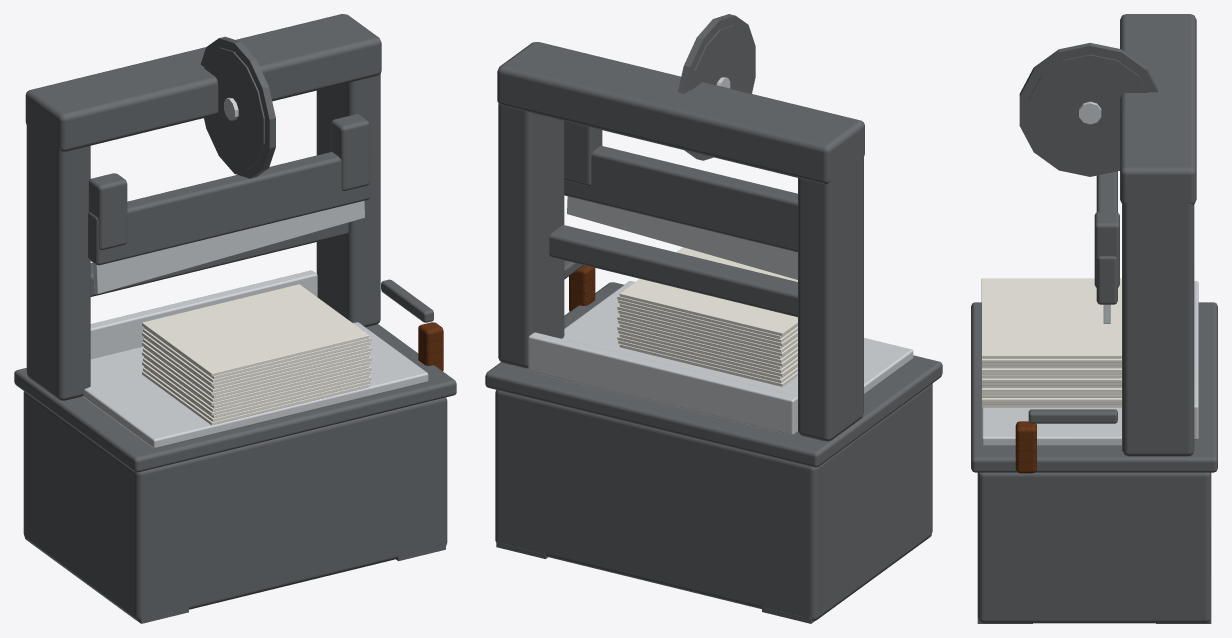
The model's file is printing-press-and-newspaper-office-guillotine-7d7ca2ab__37746.glb.
3 views of the same model, side by side, from view 1: azimuth 30°, elevation 25°; view 2: azimuth 150°, elevation 25°; view 3: azimuth 270°, elevation 25° (orthographic). The views are drawn at different scales.
Parts seen in each view (by area): view 1: guillotine, blade/iron, blade/steel; view 2: guillotine, blade/iron, blade/steel; view 3: guillotine, blade/iron.
Part boxes in pixels (x1,y1,x2,y2): guillotine: (14, 14, 456, 623); blade/iron: (88, 114, 370, 265); blade/steel: (93, 201, 364, 293); guillotine: (485, 14, 942, 623); blade/iron: (564, 121, 797, 252); blade/steel: (567, 196, 797, 279); guillotine: (971, 14, 1217, 623); blade/iron: (1094, 171, 1119, 304).
Size of the model in its own units: 1.81 by 2.62 by 1.16.
4 materials, 1 textured.
